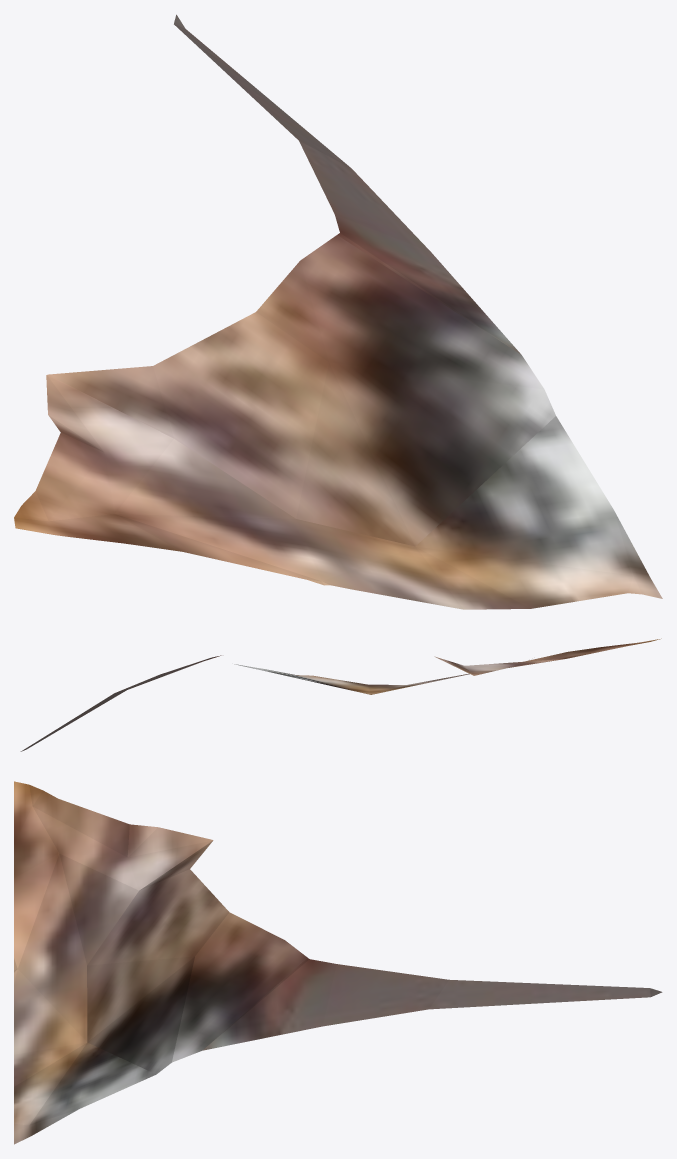
3 views of the same model, one above another, from view 1: azimuth 30°, elevation 25°; view 2: azimuth 150°, elevation 25°; view 3: azimuth 270°, elevation 25° (orthographic). The views are drawn at different scales.
Size of the model in its own units: 0.6728 by 0.2271 by 0.8757.
Materials: 1 (1 with a texture image).
